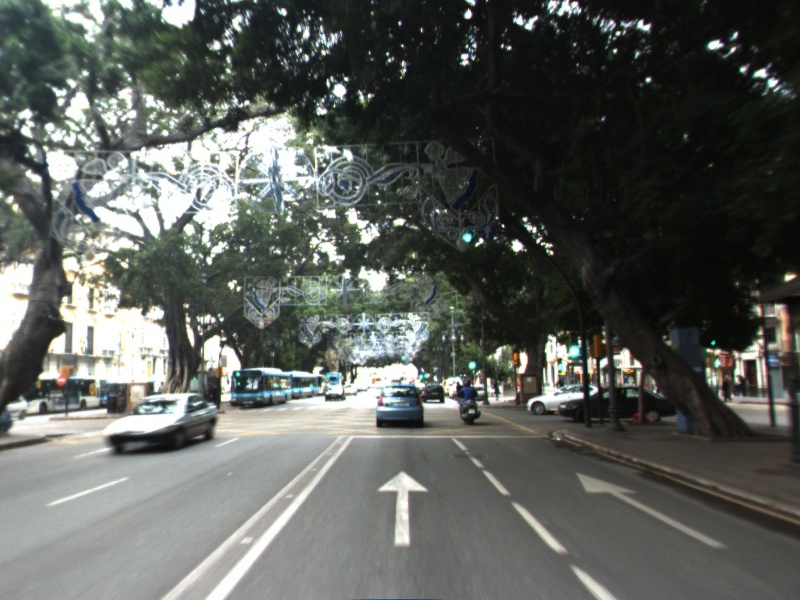STRAIGHT: (574, 471, 732, 552), (374, 468, 431, 550)
